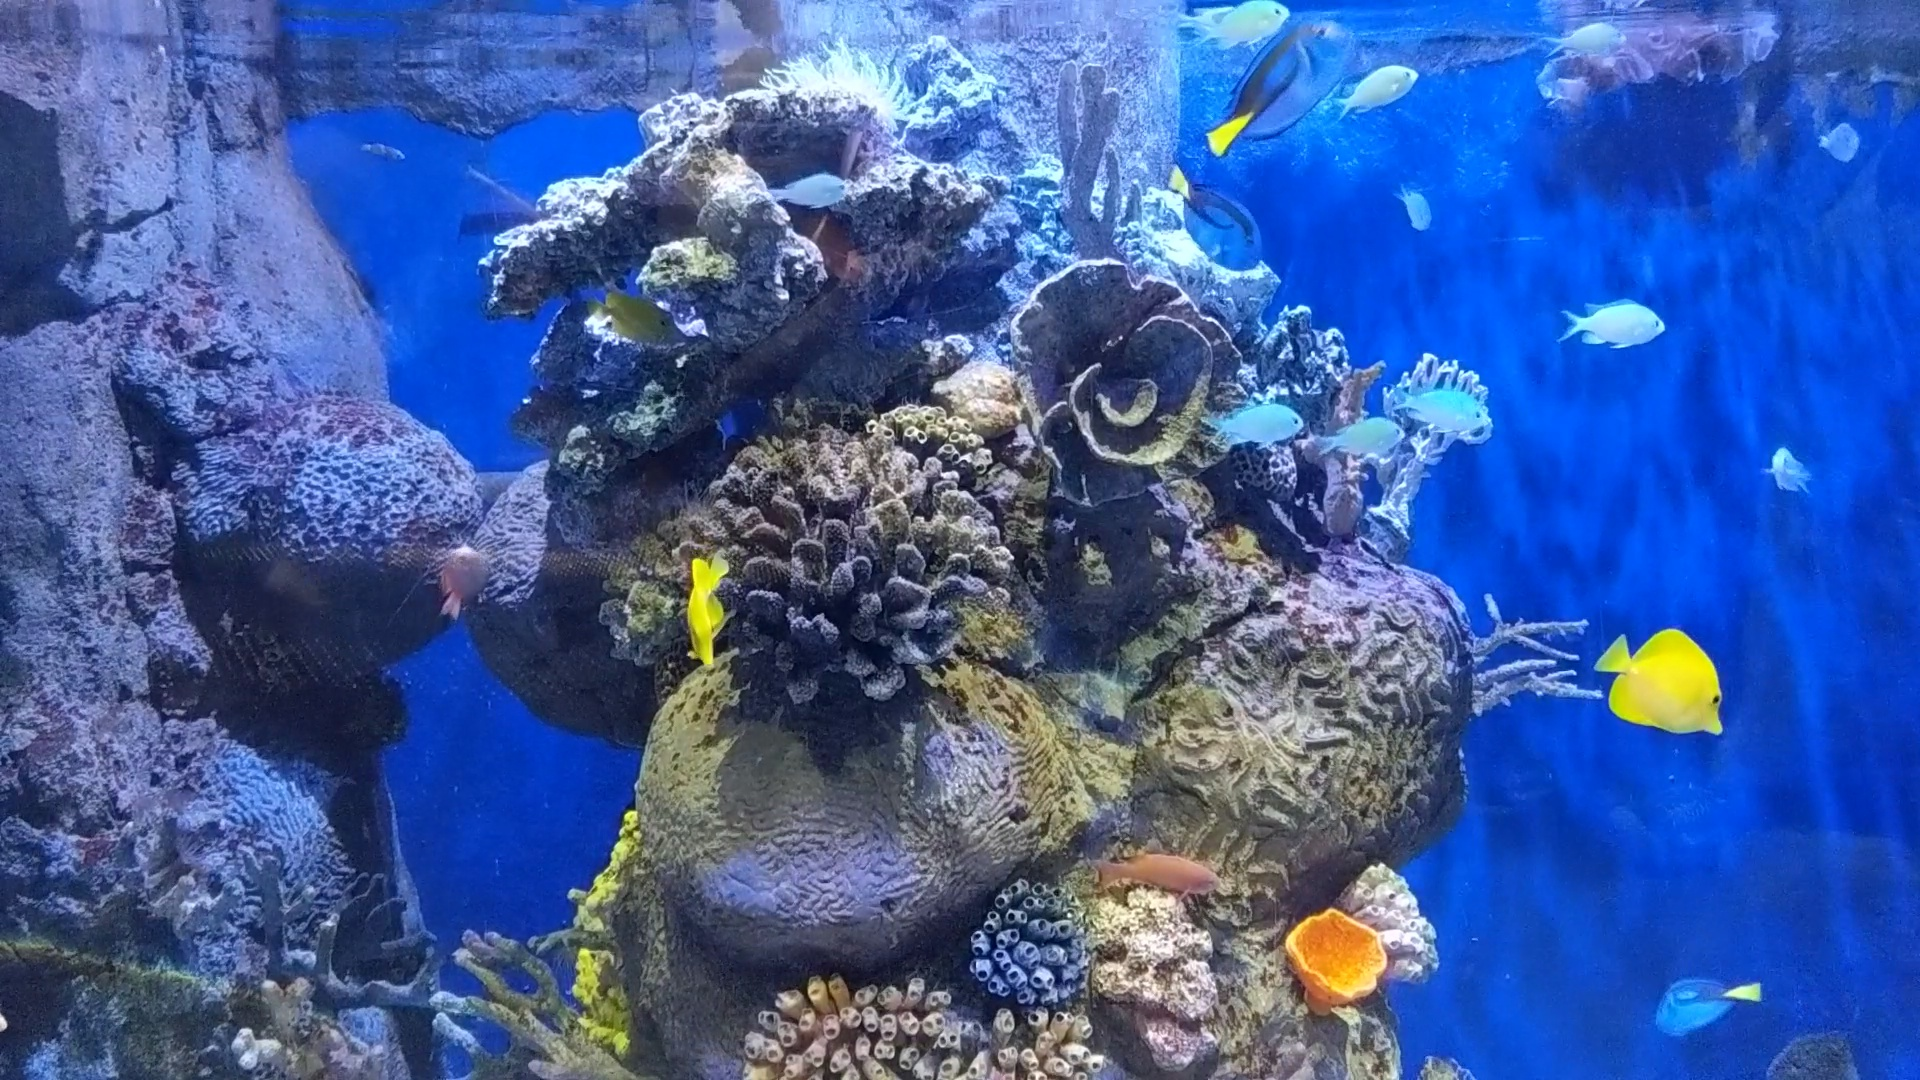blue tang surgeonfish: (1139, 160, 1304, 284), (1204, 13, 1342, 157), (1640, 975, 1784, 1054)
damselfish: (1535, 286, 1683, 364), (1185, 396, 1323, 463), (1745, 417, 1840, 513), (752, 160, 877, 222), (1381, 375, 1491, 444), (1519, 21, 1658, 76), (1156, 3, 1298, 55), (1324, 61, 1429, 128), (1291, 414, 1433, 463), (1204, 0, 1296, 65), (1379, 177, 1462, 244), (1789, 112, 1888, 167)
saddle butterfly fish: (1564, 616, 1772, 765), (645, 541, 785, 661), (574, 284, 707, 371)
